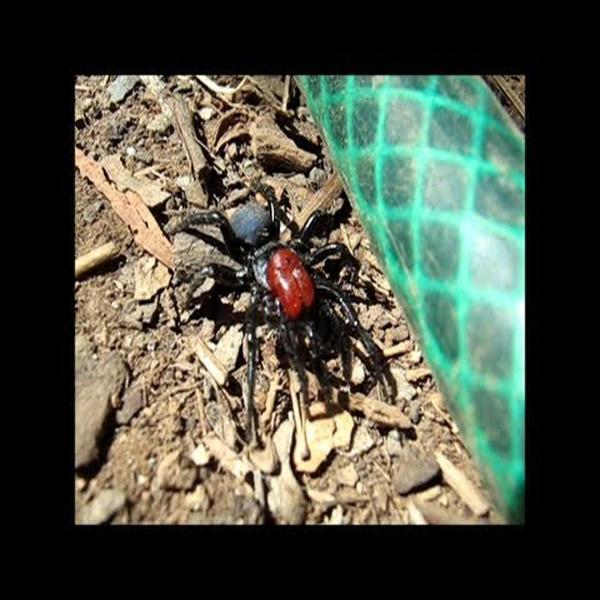Red Headed Mouse Spider: (170, 185, 390, 443)
